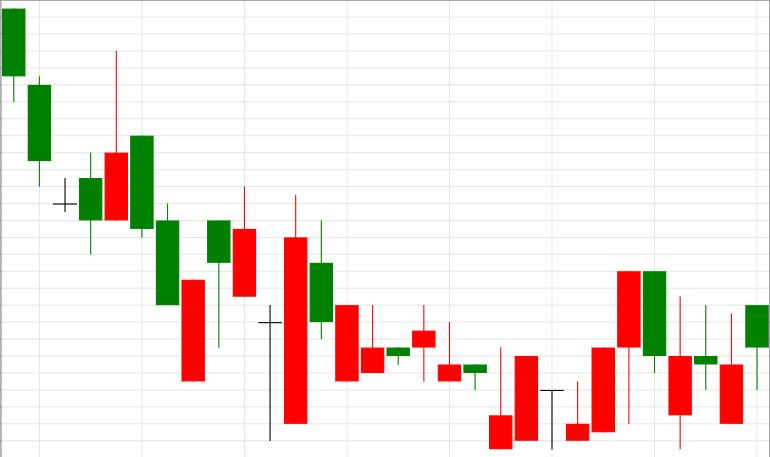inverse_hammer_rise: (335, 305, 512, 450)
